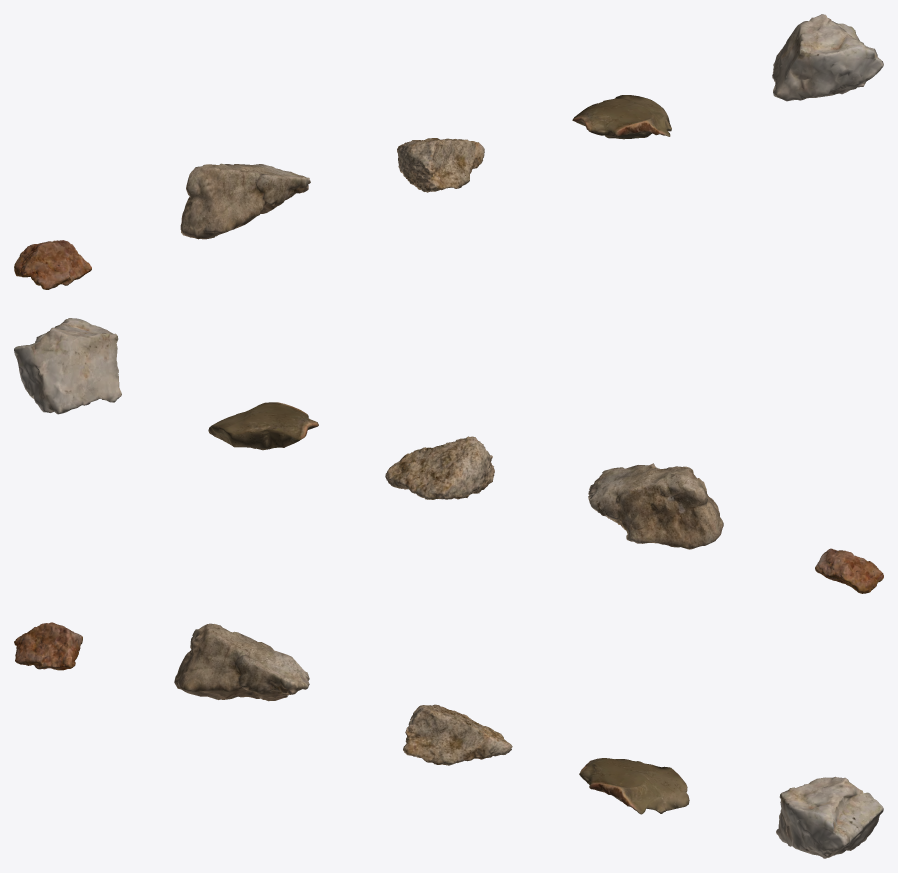
File: namaqualand_stones_01.glb
The picture shows the model from 3 angles, top to bottom: view 1: azimuth 30°, elevation 25°; view 2: azimuth 150°, elevation 25°; view 3: azimuth 330°, elevation 25°; orthographic projection.
Visible parts, largest first — view 1: namaqualand_stones_01_e, namaqualand_stones_01_b, namaqualand_stones_01_c, namaqualand_stones_01_d, namaqualand_stones_01_a; view 2: namaqualand_stones_01_b, namaqualand_stones_01_e, namaqualand_stones_01_c, namaqualand_stones_01_d, namaqualand_stones_01_a; view 3: namaqualand_stones_01_b, namaqualand_stones_01_e, namaqualand_stones_01_c, namaqualand_stones_01_d, namaqualand_stones_01_a.
Part boxes in pixels (x1=…): namaqualand_stones_01_e: x1=772, y1=14, x2=883, y2=101; namaqualand_stones_01_b: x1=180, y1=163, x2=310, y2=239; namaqualand_stones_01_c: x1=397, y1=138, x2=484, y2=192; namaqualand_stones_01_d: x1=572, y1=95, x2=671, y2=139; namaqualand_stones_01_a: x1=14, y1=240, x2=91, y2=289; namaqualand_stones_01_b: x1=588, y1=463, x2=723, y2=549; namaqualand_stones_01_e: x1=14, y1=318, x2=121, y2=414; namaqualand_stones_01_c: x1=385, y1=436, x2=494, y2=499; namaqualand_stones_01_d: x1=208, y1=402, x2=318, y2=450; namaqualand_stones_01_a: x1=815, y1=548, x2=883, y2=593; namaqualand_stones_01_b: x1=174, y1=623, x2=309, y2=701; namaqualand_stones_01_e: x1=776, y1=776, x2=883, y2=858; namaqualand_stones_01_c: x1=403, y1=704, x2=512, y2=765; namaqualand_stones_01_d: x1=579, y1=758, x2=689, y2=814; namaqualand_stones_01_a: x1=14, y1=622, x2=82, y2=670.
Bounding box in the file's own units: 1.02 × 0.084 × 0.112.
1 material, 1 textured.
